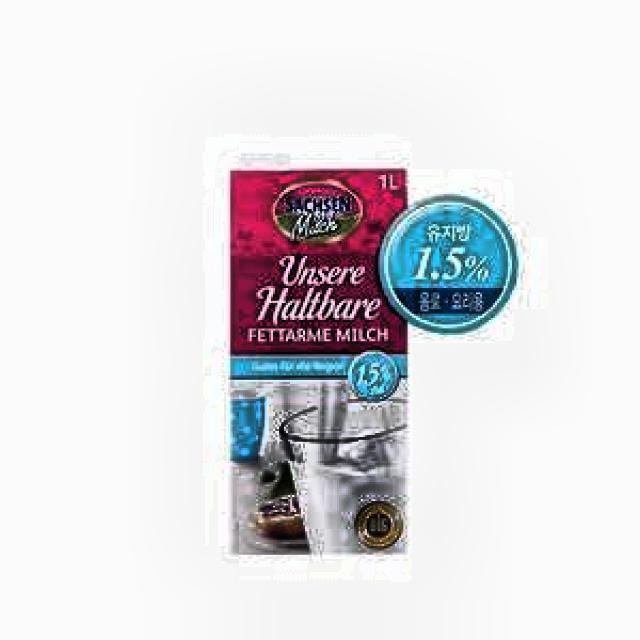cardboard: (226, 165, 410, 554)
